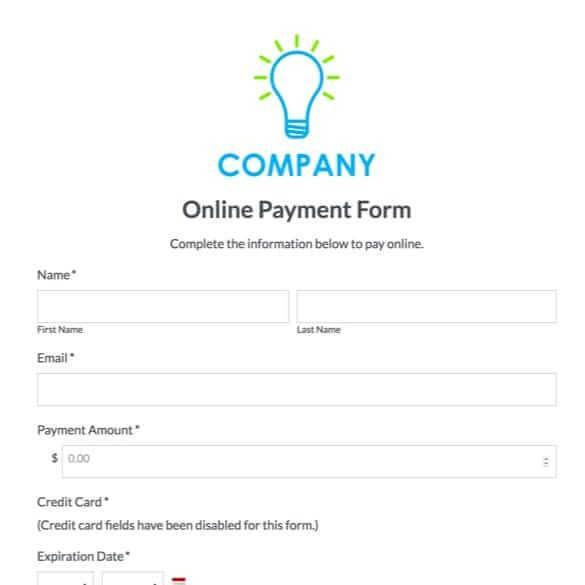dropdown: (65, 446, 560, 480)
input: (38, 374, 558, 408), (38, 291, 291, 325), (299, 291, 557, 324)
label: (179, 198, 416, 221), (35, 423, 145, 440), (35, 548, 133, 565), (36, 496, 114, 510), (32, 266, 81, 283), (33, 350, 80, 365)
